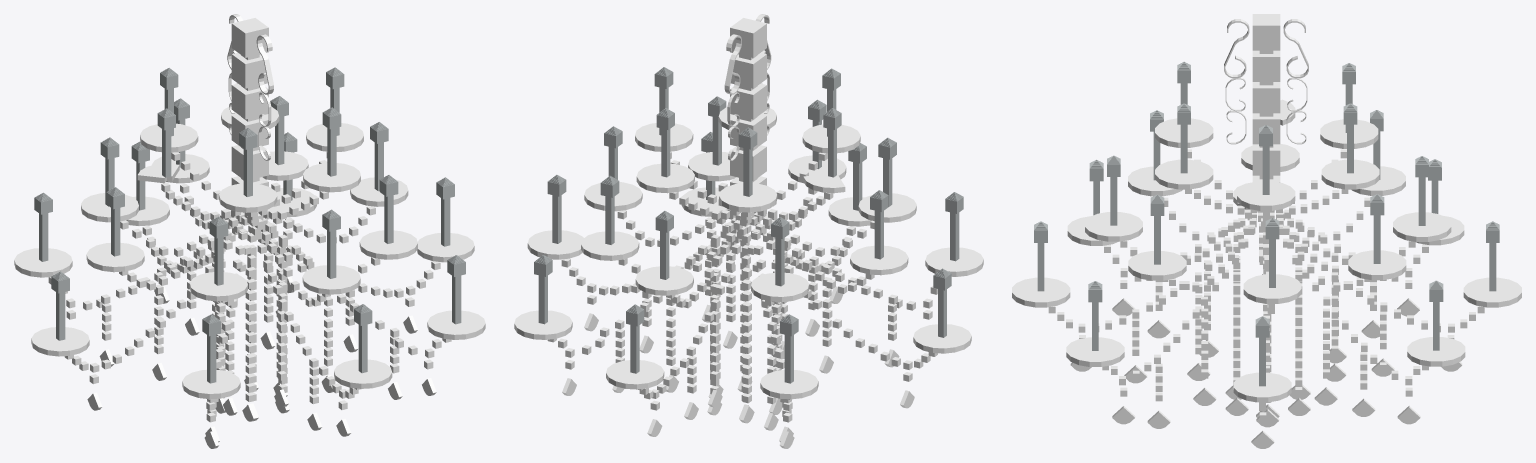
Rendered from chand.obj.
The picture shows the model from 3 angles, left to right: view 1: azimuth 30°, elevation 25°; view 2: azimuth 150°, elevation 25°; view 3: azimuth 270°, elevation 25°; orthographic projection.
Parts seen in each view (by area): view 1: cube.000, cube.008, cube.001, cube, cube.009, cube.341, cube.586, cube.620, cube.654, cube.240, cube.409, cube.426 (+6 smaller); view 2: cube.000, cube.008, cube.001, cube, cube.009, cube.358, cube.535, cube.552, cube.155, cube.172, cube.307, cube.324 (+4 smaller); view 3: cube.000, cube.008, cube.001, cube, cube.009.
Boxes of the visible parts, left/top/right/bottom form: cube.000: left=231, top=18, right=268, bottom=57; cube.008: left=231, top=83, right=268, bottom=119; cube.001: left=231, top=53, right=267, bottom=88; cube: left=231, top=145, right=268, bottom=179; cube.009: left=231, top=114, right=268, bottom=148; cube.341: left=327, top=230, right=336, bottom=278; cube.586: left=39, top=213, right=48, bottom=261; cube.620: left=56, top=292, right=65, bottom=340; cube.654: left=452, top=275, right=461, bottom=324; cube.240: left=327, top=128, right=336, bottom=176; cube.409: left=214, top=237, right=223, bottom=285; cube.426: left=384, top=195, right=393, bottom=243; cube.000: left=730, top=18, right=766, bottom=57; cube.008: left=730, top=83, right=766, bottom=119; cube.001: left=731, top=53, right=766, bottom=88; cube: left=730, top=145, right=766, bottom=180; cube.009: left=730, top=114, right=766, bottom=150; cube.358: left=775, top=237, right=784, bottom=286; cube.535: left=538, top=275, right=547, bottom=324; cube.552: left=630, top=325, right=639, bottom=373; cube.155: left=661, top=128, right=670, bottom=177; cube.172: left=743, top=148, right=752, bottom=196; cube.307: left=605, top=196, right=614, bottom=244; cube.324: left=660, top=231, right=669, bottom=279; cube.000: left=1252, top=14, right=1280, bottom=50; cube.008: left=1252, top=82, right=1280, bottom=113; cube.001: left=1252, top=50, right=1280, bottom=81; cube: left=1252, top=144, right=1280, bottom=175; cube.009: left=1252, top=113, right=1280, bottom=144.
Bounding box in the file's own units: 2.31 × 2.01 × 2.31.
